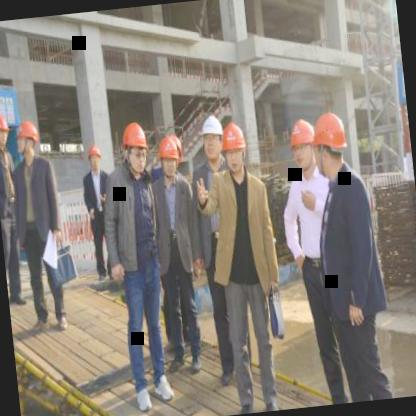helmet: (308, 108, 350, 180), (286, 115, 320, 175), (219, 119, 251, 178), (119, 120, 152, 177), (197, 110, 226, 164), (155, 132, 185, 182), (14, 117, 42, 163), (83, 140, 104, 174), (0, 110, 13, 149)
